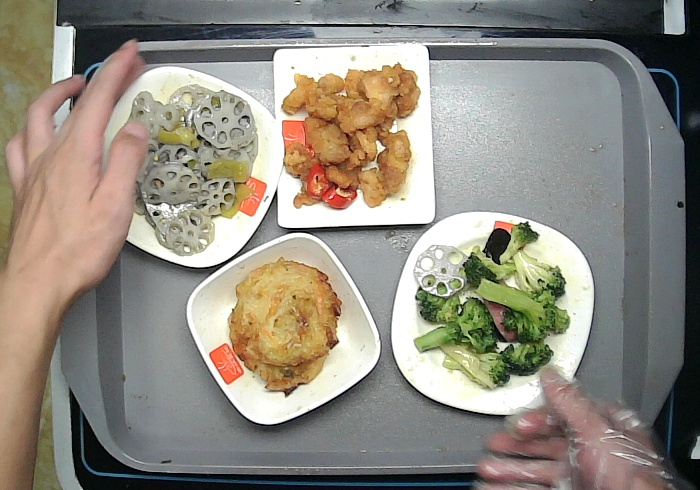SHKJ-Bai_Se_Cai_Die: (78, 62, 290, 271)
SHKJ-Bai_Se_Si_Fang_Cai_Die: (387, 209, 601, 421)
SHKJ-Bai_Se_Xiao_Fang_Die: (182, 228, 383, 430)
SHKJ-Si_Fang_Min: (268, 39, 442, 234)
